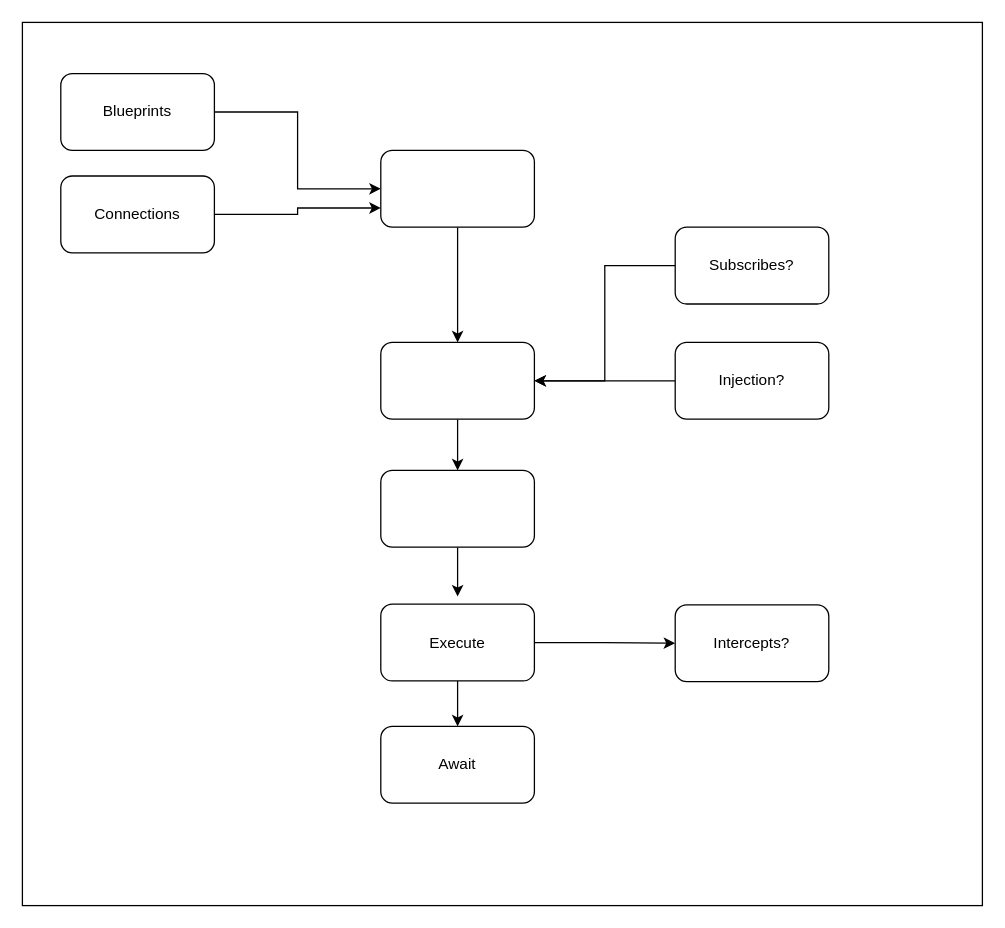
Some shapes in this 1005 by 928 pixel diagram are drawn without their labels. The shapes that lost their labels are listed below. From the top down, each one's box as (x1, y1, x2, y2) in pixels, then its label:
(380, 149, 534, 227): Flow
(380, 341, 534, 419): Setup
(380, 469, 534, 547): Build
